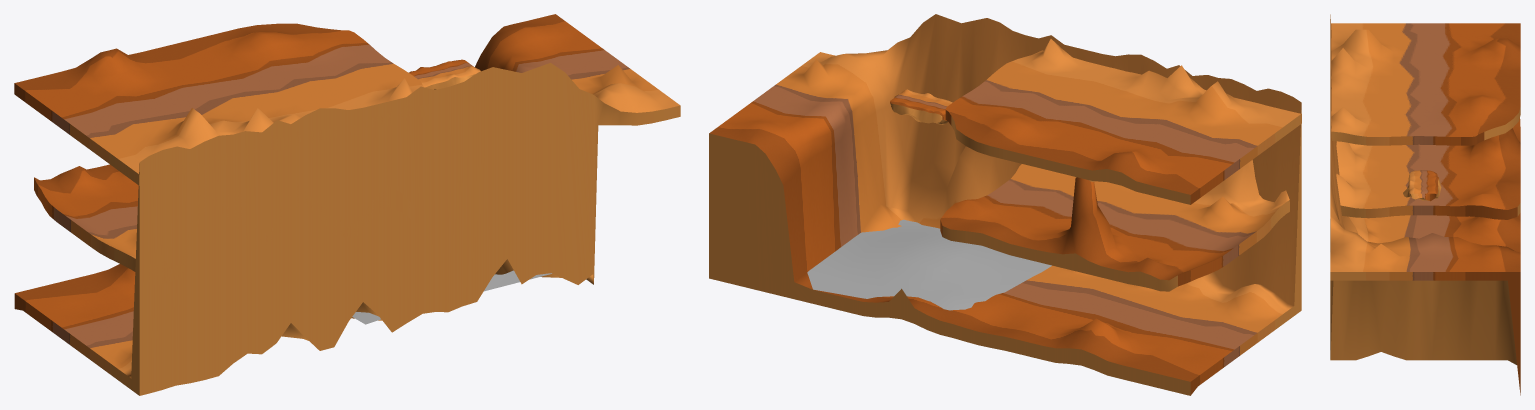
The model's file is tileableHardCanyonStart.fbx.
The picture shows the model from 3 angles, left to right: view 1: azimuth 30°, elevation 25°; view 2: azimuth 150°, elevation 25°; view 3: azimuth 270°, elevation 25°; orthographic projection. The views are drawn at different scales.
Parts seen in each view (by area): view 1: tileableHardCanyonStart, tileableHardCanyonStart2, tileableHardCanyonStart1, tileableHardCanyonRock, tileableHardLavaPlane; view 2: tileableHardCanyonStart, tileableHardCanyonStart2, tileableHardCanyonStart1, tileableHardLavaPlane, tileableHardCanyonRock; view 3: tileableHardCanyonStart, tileableHardCanyonStart2, tileableHardCanyonStart1, tileableHardCanyonRock.
Part boxes in pixels (x1,y1,x2,y2): tileableHardCanyonStart: (14,14,680,395); tileableHardCanyonStart2: (14,23,432,185); tileableHardCanyonStart1: (34,164,416,285); tileableHardCanyonRock: (409,59,480,89); tileableHardLavaPlane: (352,270,551,324); tileableHardCanyonStart: (709,14,1301,395); tileableHardCanyonStart2: (945,39,1301,204); tileableHardCanyonStart1: (940,160,1289,291); tileableHardLavaPlane: (807,219,1051,310); tileableHardCanyonRock: (890,89,952,124); tileableHardCanyonStart: (1330,14,1520,395); tileableHardCanyonStart2: (1331,23,1520,145); tileableHardCanyonStart1: (1336,118,1520,219); tileableHardCanyonRock: (1403,170,1441,201).
Size of the model in its own units: 0.5001 by 0.2268 by 0.2.
